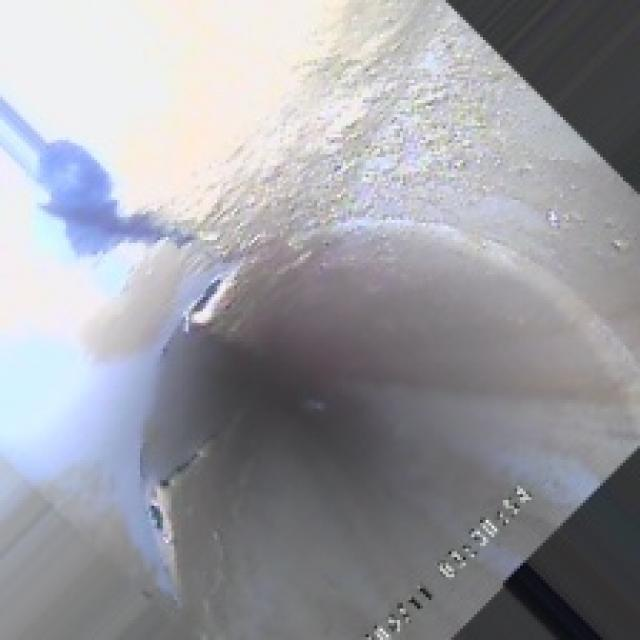pipe_surface_damage: (126, 260, 326, 583)
